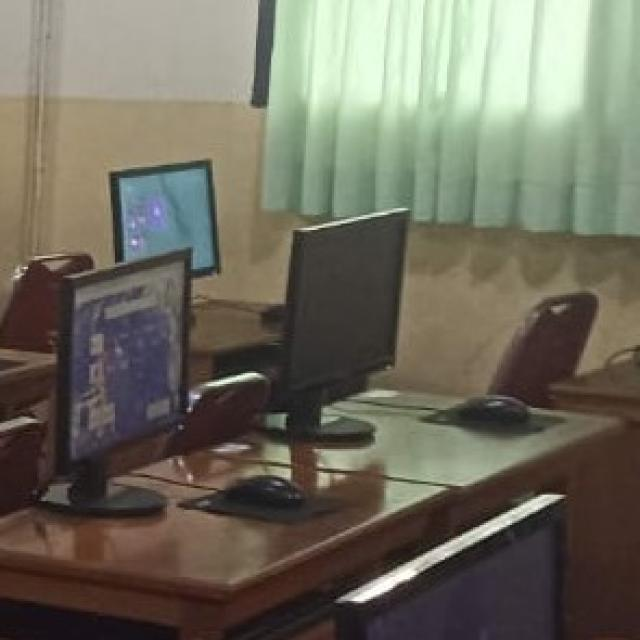offscreen: (286, 209, 407, 391)
onscreen: (57, 250, 187, 472), (112, 162, 220, 276)
